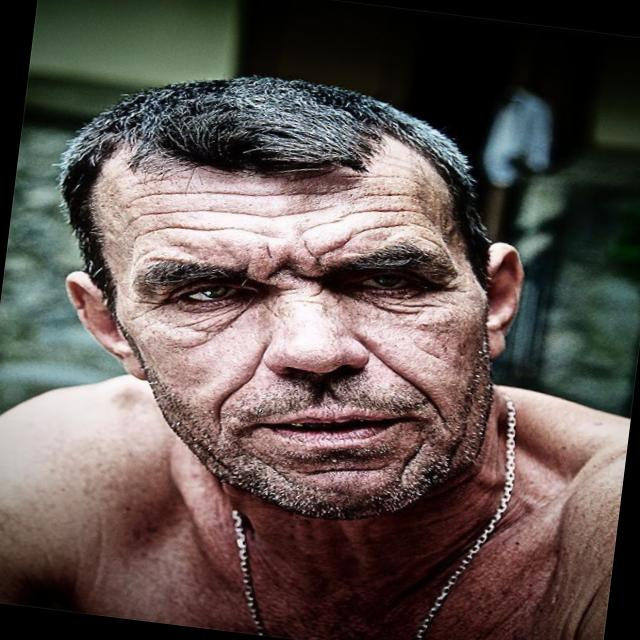face: (6, 41, 583, 582)
